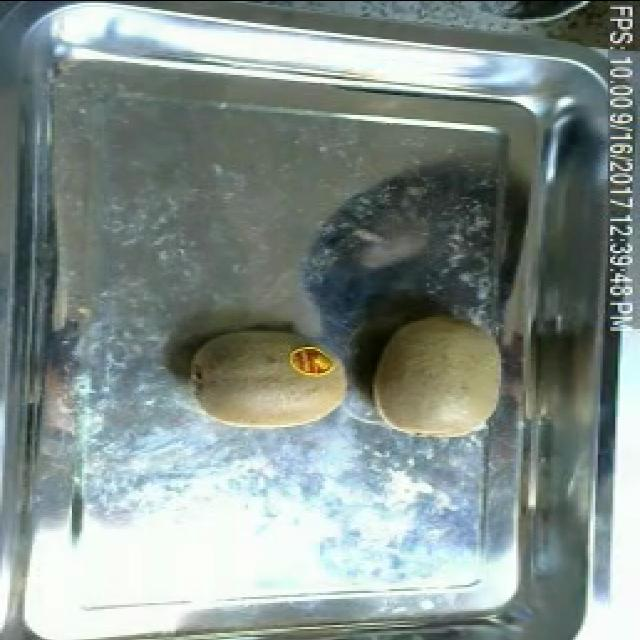Fruit: (178, 314, 360, 438), (362, 304, 514, 446)
